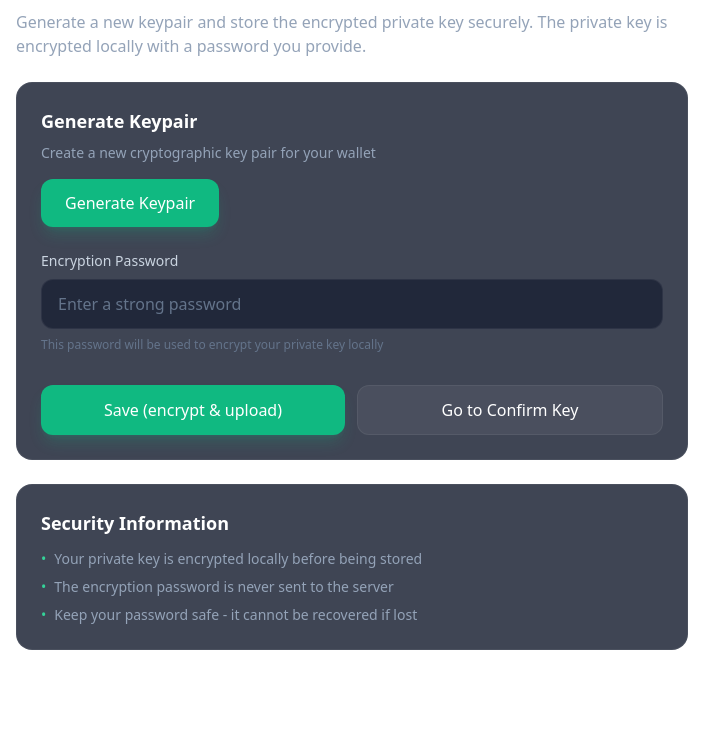
Scenario: Wallet › generates keypair and shows thumbprint when button clicked
This screenshot has width=705, height=742.
Click the button "Generate Keypair": {"x": 130, "y": 203} [41, 179, 219, 227]
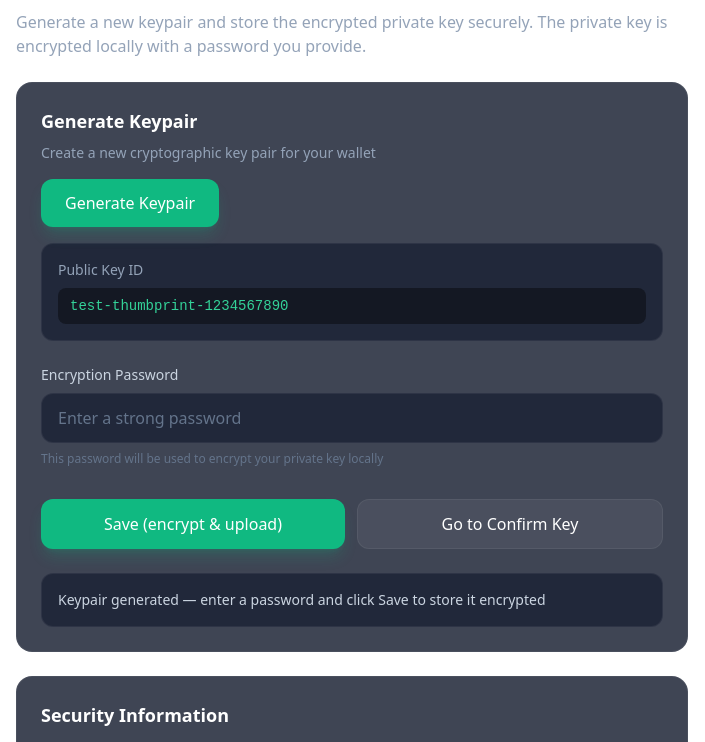
Expected: the text "Public Key ID" is shown, [58, 260, 143, 279]
Expected: the text "test-thumbprint-1234567890" is shown, [58, 288, 646, 324]
